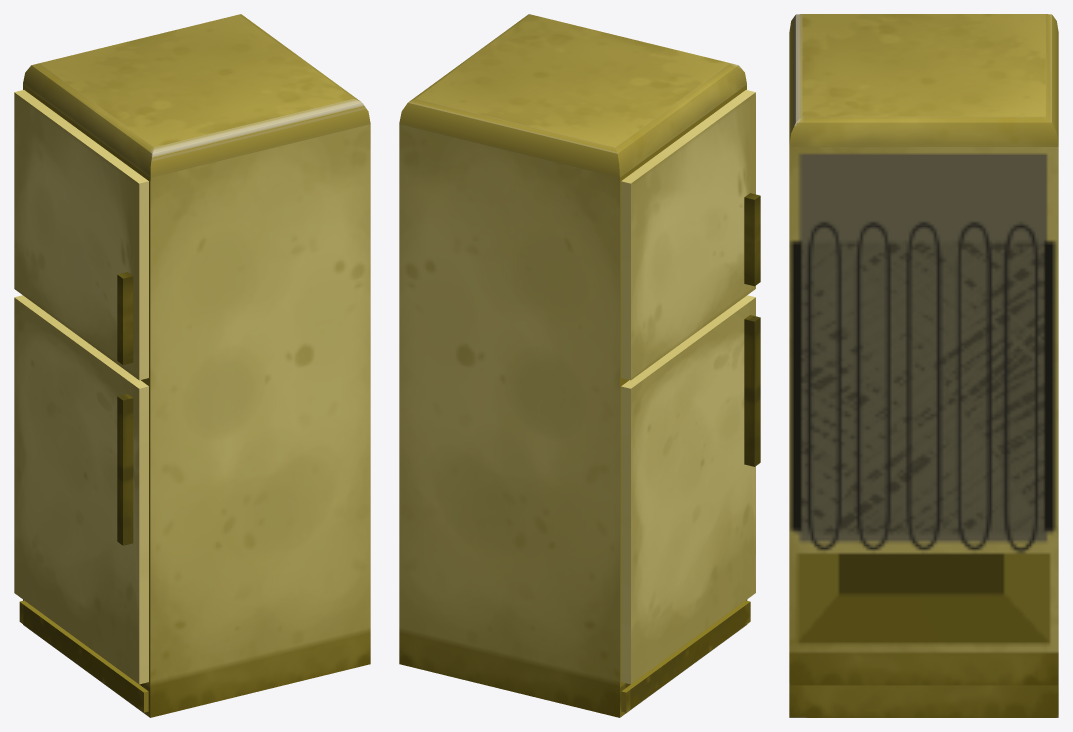
The model's file is Frigde.fbx.
3 views of the same model, side by side, from view 1: azimuth 30°, elevation 25°; view 2: azimuth 150°, elevation 25°; view 3: azimuth 270°, elevation 25° (orthographic). The views are drawn at different scales.
Visible parts, largest first — view 1: Frigde; view 2: Frigde; view 3: Frigde.
Boxes of the visible parts, x1,y1,x2,y2 form: Frigde: [14, 14, 370, 717]; Frigde: [399, 14, 760, 717]; Frigde: [789, 14, 1058, 717].
Size of the model in its own units: 157 by 352 by 144.
